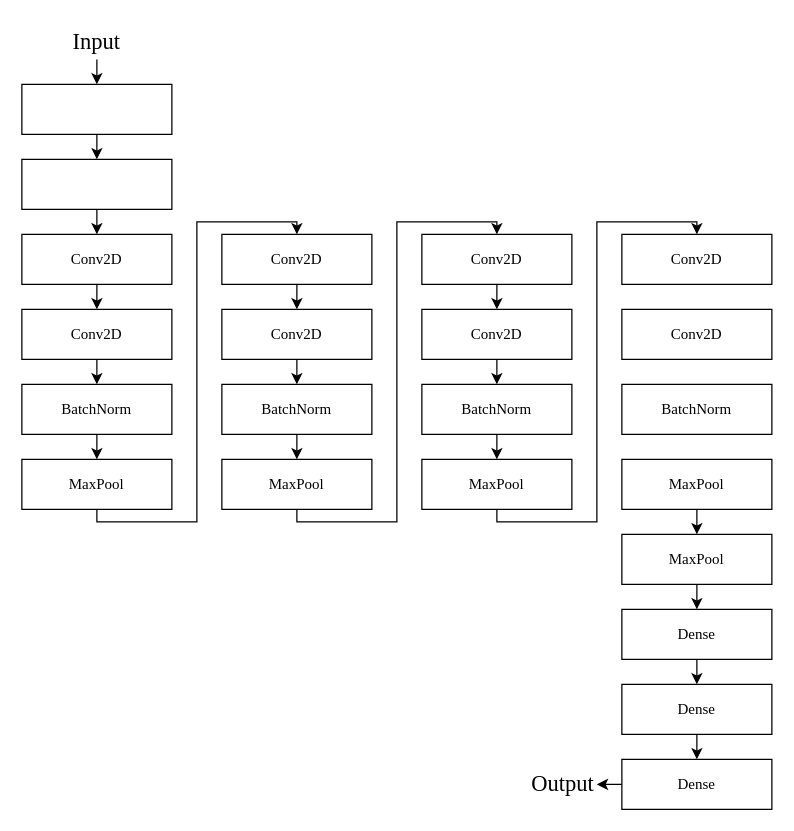
Image size: 794x831. Some labels were removed from this diagram. Each missing label, with the centre of its shape:
"Conv2D 1x1x1" goes at point (96, 108).
"Resizing (100x100x1)" goes at point (96, 183).
